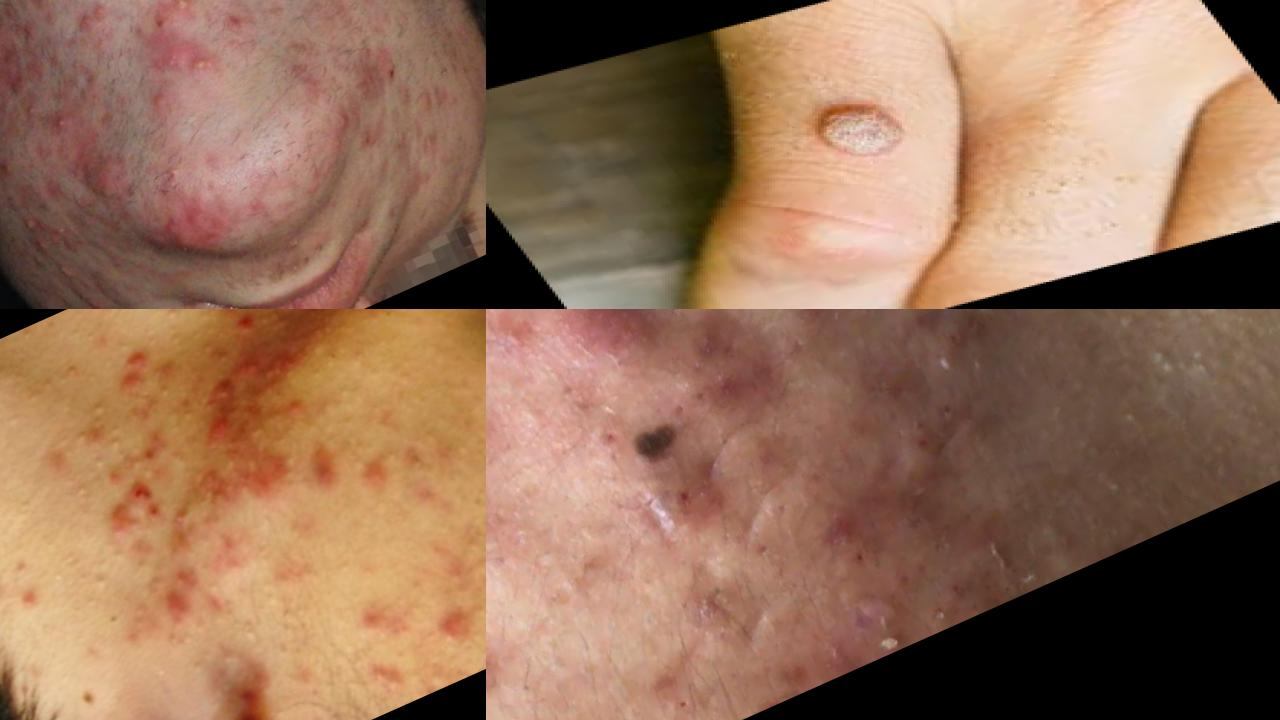cystic: (532, 310, 675, 390), (63, 136, 137, 216)
flat_wart: (786, 85, 930, 174)
folliculitis: (24, 235, 123, 310), (46, 1, 130, 53), (1, 192, 66, 257), (172, 27, 229, 94), (28, 98, 93, 151), (1, 84, 53, 132), (145, 1, 220, 33)
keloid: (1, 19, 33, 132)
papular: (85, 326, 160, 403), (343, 582, 409, 640), (196, 396, 257, 455), (296, 441, 351, 499), (422, 598, 476, 649), (123, 465, 168, 523), (154, 589, 201, 637), (228, 675, 277, 720), (225, 341, 271, 388), (216, 310, 265, 350), (354, 458, 391, 499), (101, 504, 138, 541)
sebo-crystan-conglo: (826, 310, 1052, 476), (826, 486, 964, 605), (654, 335, 781, 448)
whitehead: (77, 550, 125, 598), (374, 655, 416, 708), (232, 607, 273, 656), (320, 371, 362, 412), (76, 390, 117, 427), (209, 640, 251, 676), (40, 549, 74, 593), (181, 647, 218, 685), (159, 438, 198, 473), (83, 444, 120, 479), (1, 401, 30, 445), (62, 478, 99, 511), (151, 372, 186, 404), (279, 611, 312, 643), (475, 504, 487, 548), (155, 310, 188, 325), (278, 709, 322, 720)
